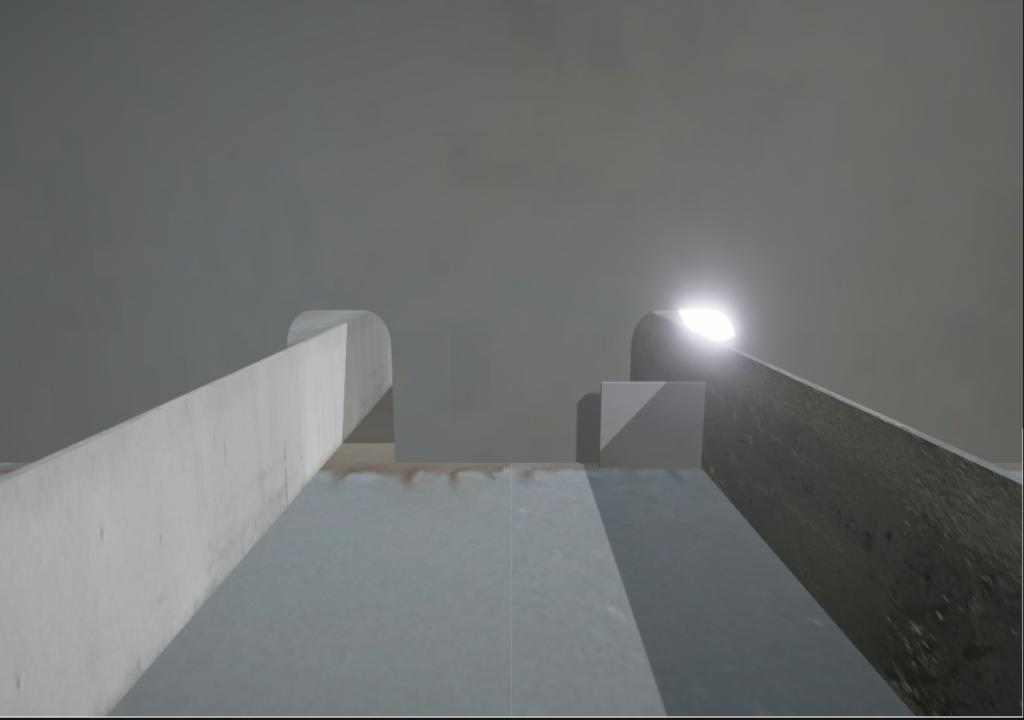fillet_yong_jeop_jang: (388, 455, 601, 471)
plate_CP01: (600, 380, 706, 470)
